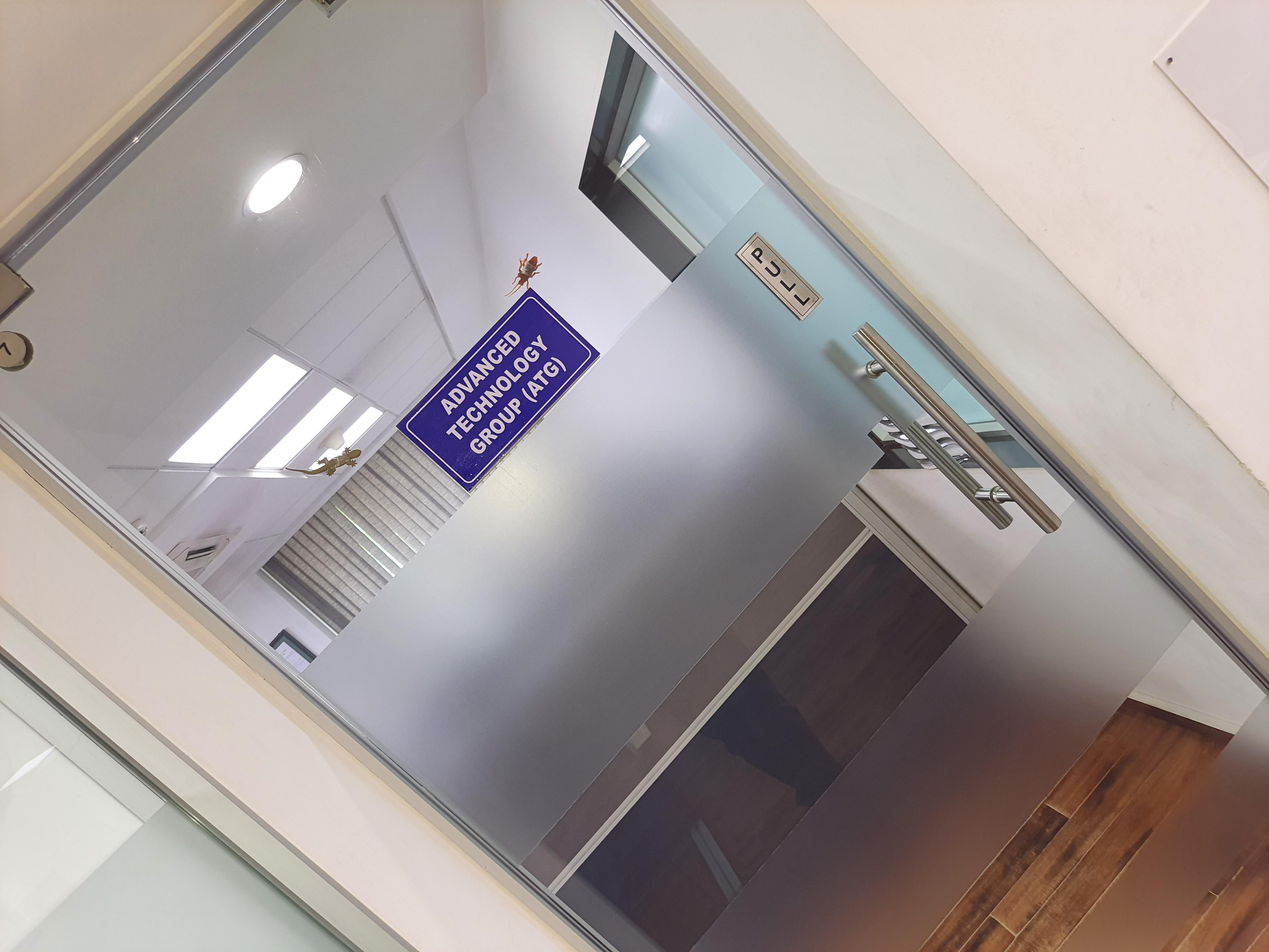cockroach: (864, 377, 952, 410)
lizard: (626, 204, 697, 290)
